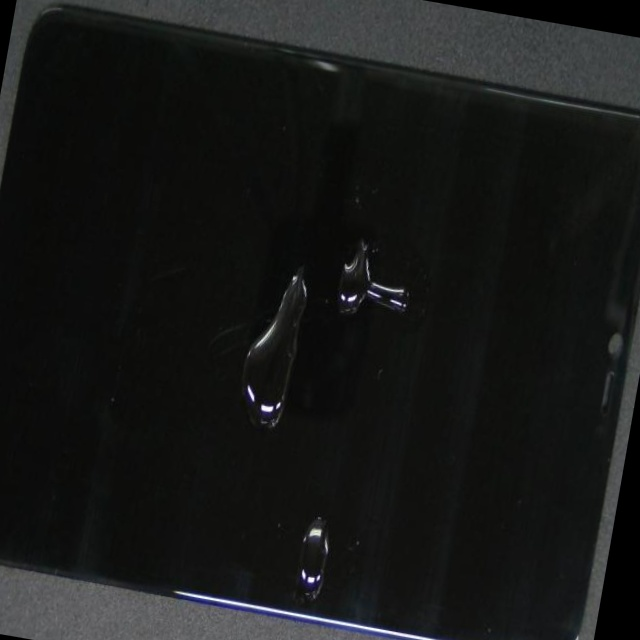oil: (112, 263, 582, 640), (165, 138, 640, 489), (126, 128, 491, 461)
